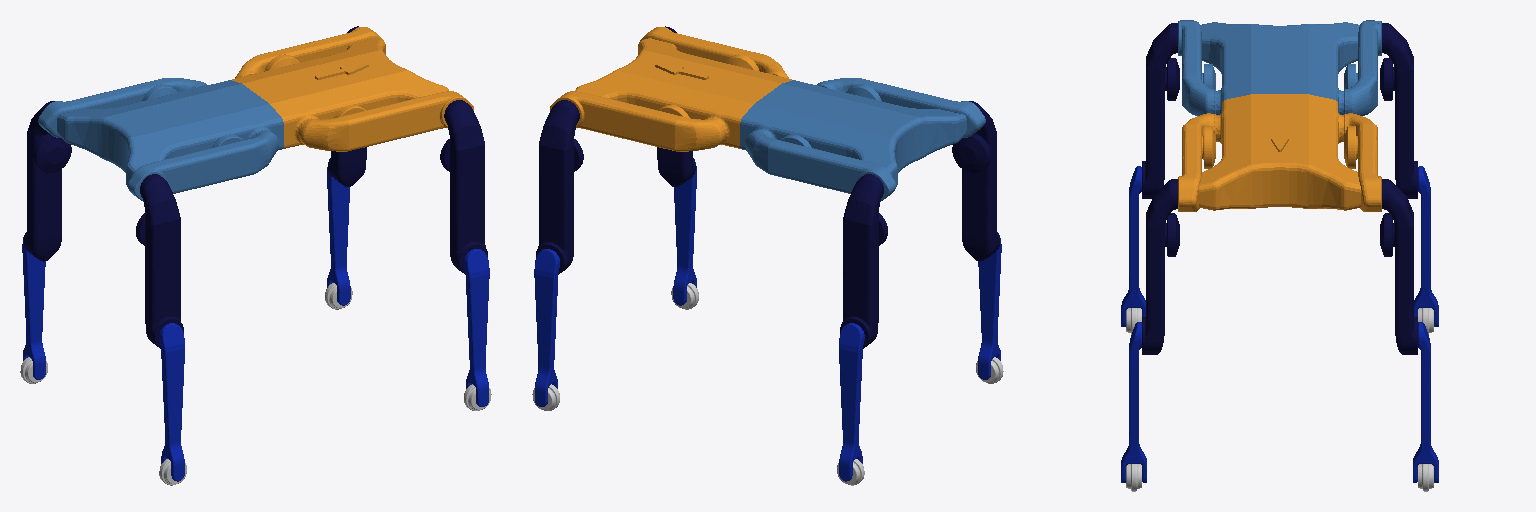
robot.urdf — solo:
<?xml version="1.0" ?>
<!-- =================================================================================== -->
<!-- |    This document was autogenerated by xacro from /usr/local/lib/python3.9/site-packages/robot_properties_solo/resources/xacro/solo8.urdf.xacro | -->
<!-- |    EDITING THIS FILE BY HAND IS NOT RECOMMENDED                                 | -->
<!-- =================================================================================== -->
<robot name="solo" xmlns:controller="http://playerstage.sourceforge.net/gazebo/xmlschema/#controller" xmlns:interface="http://playerstage.sourceforge.net/gazebo/xmlschema/#interface" xmlns:sensor="http://playerstage.sourceforge.net/gazebo/xmlschema/#sensor" xmlns:xacro="http://playerstage.sourceforge.net/gazebo/xmlschema/#interface">
  <!-- This file is based on: https://atlas.is.localnet/confluence/display/AMDW/Quadruped+URDF+Files -->
  <link name="torso_front">
    <!-- BASE LINK INERTIAL -->
    <inertial>
      <origin rpy="0 0 0" xyz="0 0 0"/>
      <mass value="0.71657546"/>
      <!-- The base is extremely symmetrical. -->
      <inertia ixx="0.00289287" ixy="0.0" ixz="0.0" iyy="0.00969054" iyz="0.0" izz="0.01238062"/>
    </inertial>
    <!-- BASE LINK VISUAL -->
    <visual>
      <origin rpy="0 0 0" xyz="0 0 0"/>
      <geometry>
        <mesh filename="../meshes/solo_torso_front.dae"/>
      </geometry>
      <material name="ftorso_mat">
        <color rgba="0.9 0.6 0.2 1"/>
      </material>
    </visual>
    <!-- BASE LINK COLLISION -->
    <collision>
      <origin rpy="0 0 0" xyz="0 0 0"/>
      <geometry>
        <mesh filename="../meshes/solo_torso_front.dae"/>
      </geometry>
    </collision>
    <!-- Bullet specific paramters -->
    <contact>
      <lateral_friction value="1.0"/>
      <restitution value="0.5"/>
    </contact>
  </link>
  <!-- SPIN:Between the torso -->
  <joint name="spine_joint" type="revolute">
    <parent link="torso_front"/>
    <child link="torso_back"/>
    <limit effort="20.0" lower="-4" upper="4" velocity="50"/>
    <!-- joints rotates around the y-axis -->
    <axis xyz="1 0 0"/>
    <origin rpy="0 0 0" xyz="0 0 0"/>
    <!-- pybullet simulation parameters -->
    <dynamics damping="0.0" friction="0.0"/>
  </joint>
  <link name="torso_back">
    <!-- BASE LINK INERTIAL -->
    <inertial>
      <origin rpy="0 0 0" xyz="0 0 0"/>
      <mass value="0.71657546"/>
      <!-- The base is extremely symmetrical. -->
      <inertia ixx="0.00289287" ixy="0.0" ixz="0.0" iyy="0.00969054" iyz="0.0" izz="0.01238062"/>
    </inertial>
    <!-- BASE LINK VISUAL -->
    <visual>
      <origin rpy="0 0 0" xyz="0 0 0"/>
      <geometry>
        <mesh filename="../meshes/solo_torso_back.dae"/>
      </geometry>
      <material name="btorso_mat">
        <color rgba="0.3 0.5 0.7 1"/>
      </material>
    </visual>
    <!-- BASE LINK COLLISION -->
    <collision>
      <origin rpy="0 0 0" xyz="0 0 0"/>
      <geometry>
        <mesh filename="../meshes/solo_torso_back.dae"/>
      </geometry>
    </collision>
    <!-- Bullet specific paramters -->
    <contact>
      <lateral_friction value="1.0"/>
      <restitution value="0.5"/>
    </contact>
  </link>
  <!-- END BASE LINK -->
  <!-- Joint between the base and the ${prefix} upper leg -->
  <joint name="FL_HFE" type="revolute">
    <parent link="torso_front"/>
    <child link="FL_UPPER_LEG"/>
    <limit effort="2.5" lower="0" upper="1.5707963" velocity="8"/>
    <!-- joints rotates around the y-axis -->
    <axis xyz="0 1 0"/>
    <origin rpy="0 0 0" xyz="0.19 0.1046 0"/>
    <!-- pybullet simulation parameters -->
    <dynamics damping="0.0" friction="0.0"/>
  </joint>
  <link name="FL_UPPER_LEG">
    <!-- Left upper leg inertia -->
    <inertial>
      <origin rpy="0 0 0" xyz="0.00001377 0.01935853 -0.07870700"/>
      <mass value="0.14853845"/>
      <inertia ixx="0.00041107" ixy="0.0" ixz="0.0" iyy="0.00041193" iyz="0.00004671" izz="0.00003024"/>
    </inertial>
    <!-- UPPER LEG LINK VISUAL -->
    <visual>
      <origin rpy="0 0 0" xyz="0 0 0"/>
      <geometry>
        <mesh filename="../meshes/solo_upper_leg_left_side.dae"/>
      </geometry>
      <material name="fthigh_mat">
        <color rgba="0.1 0.1 0.3 1"/>
      </material>
    </visual>
    <!-- UPPER LEG LINK COLLISION -->
    <collision>
      <origin rpy="0 0 0" xyz="0 0 0"/>
      <geometry>
        <mesh filename="../meshes/solo_upper_leg_left_side.dae"/>
      </geometry>
    </collision>
    <!-- Bullet specific paramters -->
    <contact>
      <lateral_friction value="1.0"/>
      <restitution value="0.5"/>
    </contact>
  </link>
  <!-- END UPPER LEG LINK -->
  <!-- KFE: Joint between the upper leg and the lower leg -->
  <joint name="FL_KFE" type="revolute">
    <parent link="FL_UPPER_LEG"/>
    <child link="FL_LOWER_LEG"/>
    <limit effort="2.5" lower="-3.14" upper="0" velocity="8"/>
    <!-- joints rotates around the y-axis -->
    <axis xyz="0 1 0"/>
    <origin rpy="0 0 0" xyz="0 0.037450000000000004 -0.16"/>
    <!-- pybullet simulation parameters -->
    <dynamics damping="0.0" friction="0.0"/>
  </joint>
  <link name="FL_LOWER_LEG">
    <!-- Left lower leg inertia -->
    <inertial>
      <origin rpy="0 0 0" xyz="0.0 0.00787644 -0.08928215"/>
      <mass value="0.03070001"/>
      <inertia ixx="0.00012024" ixy="0.0" ixz="0.0" iyy="0.00012029" iyz="0.00000305" izz="0.00000216"/>
    </inertial>
    <!-- LOWER LEG LINK VISUAL -->
    <visual>
      <origin rpy="0 0 0" xyz="0 0 0"/>
      <geometry>
        <mesh filename="../meshes/solo_lower_leg_left_side.dae"/>
      </geometry>
      <material name="fshin_mat">
        <color rgba="0.1 0.2 0.7 0.4"/>
      </material>
    </visual>
    <!-- LOWER LEG LINK COLLISION -->
    <collision>
      <origin rpy="0 0 0" xyz="0 0 0"/>
      <geometry>
        <mesh filename="../meshes/solo_lower_leg_left_side.dae"/>
      </geometry>
    </collision>
    <!-- Bullet specific paramters -->
    <contact>
      <lateral_friction value="1.0"/>
      <restitution value="0.5"/>
    </contact>
  </link>
  <!-- END LOWER LEG LINK -->
  <!-- KFE: Joint between the upper leg and the lower leg -->
  <joint name="FL_ANKLE" type="fixed">
    <parent link="FL_LOWER_LEG"/>
    <child link="FL_FOOT"/>
    <origin rpy="0 0 0" xyz="0 0.008 -0.16"/>
    <!-- pybullet simulation parameters -->
    <dynamics damping="0.0" friction="0.0"/>
  </joint>
  <link name="FL_FOOT">
    <!-- FOOT INERTIAL -->
    <!-- This link is symmetrical left or right -->
    <inertial>
      <origin rpy="0 0 0" xyz="0 0 0.00035767"/>
      <mass value="0.00693606"/>
      <inertia ixx="0.00000057" ixy="0.0" ixz="0.0" iyy="0.00000084" iyz="0.0" izz="0.00000053"/>
    </inertial>
    <!-- FOOT VISUAL -->
    <visual>
      <origin rpy="0 0 0" xyz="0 0 0"/>
      <geometry>
        <mesh filename="../meshes/solo_foot.dae"/>
      </geometry>
      <material name="grey">
        <color rgba="0.8 0.8 0.8 1.0"/>
      </material>
    </visual>
    <!-- FOOT COLLISION -->
    <collision>
      <origin rpy="0 0 0" xyz="0 0 0"/>
      <geometry>
        <mesh filename="../meshes/solo_foot.dae"/>
      </geometry>
    </collision>
    <!-- Bullet specific paramters -->
    <contact>
      <lateral_friction value="1.0"/>
      <restitution value="0.5"/>
    </contact>
  </link>
  <!-- END LOWER LEG LINK -->
  <!-- Joint between the base and the ${prefix} upper leg -->
  <joint name="FR_HFE" type="revolute">
    <parent link="torso_front"/>
    <child link="FR_UPPER_LEG"/>
    <limit effort="2.5" lower="0" upper="1.5707963" velocity="8"/>
    <!-- joints rotates around the y-axis -->
    <axis xyz="0 1 0"/>
    <origin rpy="0 0 0" xyz="0.19 -0.1046 0"/>
    <!-- pybullet simulation parameters -->
    <dynamics damping="0.0" friction="0.0"/>
  </joint>
  <link name="FR_UPPER_LEG">
    <!-- Right upper leg inertia -->
    <inertial>
      <origin rpy="0 0 0" xyz="-0.00001377 -0.01935853 -0.07870700"/>
      <mass value="0.14853845"/>
      <inertia ixx="0.00041107" ixy="0.0" ixz="0.0" iyy="0.00041193" iyz="-0.00004671" izz="0.00003024"/>
    </inertial>
    <!-- UPPER LEG LINK VISUAL -->
    <visual>
      <origin rpy="0 0 0" xyz="0 0 0"/>
      <geometry>
        <mesh filename="../meshes/solo_upper_leg_right_side.dae"/>
      </geometry>
      <material name="fthigh_mat">
        <color rgba="0.1 0.1 0.3 1"/>
      </material>
    </visual>
    <!-- UPPER LEG LINK COLLISION -->
    <collision>
      <origin rpy="0 0 0" xyz="0 0 0"/>
      <geometry>
        <mesh filename="../meshes/solo_upper_leg_right_side.dae"/>
      </geometry>
    </collision>
    <!-- Bullet specific paramters -->
    <contact>
      <lateral_friction value="1.0"/>
      <restitution value="0.5"/>
    </contact>
  </link>
  <!-- END UPPER LEG LINK -->
  <!-- KFE: Joint between the upper leg and the lower leg -->
  <joint name="FR_KFE" type="revolute">
    <parent link="FR_UPPER_LEG"/>
    <child link="FR_LOWER_LEG"/>
    <limit effort="2.5" lower="-3.14" upper="0" velocity="8"/>
    <!-- joints rotates around the y-axis -->
    <axis xyz="0 1 0"/>
    <origin rpy="0 0 0" xyz="0 -0.037450000000000004 -0.16"/>
    <!-- pybullet simulation parameters -->
    <dynamics damping="0.0" friction="0.0"/>
  </joint>
  <link name="FR_LOWER_LEG">
    <!-- Right lower leg inertia -->
    <inertial>
      <origin rpy="0 0 0" xyz="0.0 0.00787644 -0.08928215"/>
      <mass value="0.03070001"/>
      <inertia ixx="0.00012024" ixy="0.0" ixz="0.0" iyy="0.00012029" iyz="-0.00000305" izz="0.00000216"/>
    </inertial>
    <!-- LOWER LEG LINK VISUAL -->
    <visual>
      <origin rpy="0 0 0" xyz="0 0 0"/>
      <geometry>
        <mesh filename="../meshes/solo_lower_leg_right_side.dae"/>
      </geometry>
      <material name="fshin_mat">
        <color rgba="0.1 0.2 0.7 0.4"/>
      </material>
    </visual>
    <!-- LOWER LEG LINK COLLISION -->
    <collision>
      <origin rpy="0 0 0" xyz="0 0 0"/>
      <geometry>
        <mesh filename="../meshes/solo_lower_leg_right_side.dae"/>
      </geometry>
    </collision>
    <!-- Bullet specific paramters -->
    <contact>
      <lateral_friction value="1.0"/>
      <restitution value="0.5"/>
    </contact>
  </link>
  <!-- END LOWER LEG LINK -->
  <!-- KFE: Joint between the upper leg and the lower leg -->
  <joint name="FR_ANKLE" type="fixed">
    <parent link="FR_LOWER_LEG"/>
    <child link="FR_FOOT"/>
    <origin rpy="0 0 0" xyz="0 -0.008 -0.16"/>
    <!-- pybullet simulation parameters -->
    <dynamics damping="0.0" friction="0.0"/>
  </joint>
  <link name="FR_FOOT">
    <!-- FOOT INERTIAL -->
    <!-- This link is symmetrical left or right -->
    <inertial>
      <origin rpy="0 0 0" xyz="0 0 0.00035767"/>
      <mass value="0.00693606"/>
      <inertia ixx="0.00000057" ixy="0.0" ixz="0.0" iyy="0.00000084" iyz="0.0" izz="0.00000053"/>
    </inertial>
    <!-- FOOT VISUAL -->
    <visual>
      <origin rpy="0 0 0" xyz="0 0 0"/>
      <geometry>
        <mesh filename="../meshes/solo_foot.dae"/>
      </geometry>
      <material name="grey">
        <color rgba="0.8 0.8 0.8 1.0"/>
      </material>
    </visual>
    <!-- FOOT COLLISION -->
    <collision>
      <origin rpy="0 0 0" xyz="0 0 0"/>
      <geometry>
        <mesh filename="../meshes/solo_foot.dae"/>
      </geometry>
    </collision>
    <!-- Bullet specific paramters -->
    <contact>
      <lateral_friction value="1.0"/>
      <restitution value="0.5"/>
    </contact>
  </link>
  <!-- END LOWER LEG LINK -->
  <!-- Joint between the base and the ${prefix} upper leg -->
  <joint name="HL_HFE" type="revolute">
    <parent link="torso_back"/>
    <child link="HL_UPPER_LEG"/>
    <limit effort="2.5" lower="0" upper="1.5707963" velocity="8"/>
    <!-- joints rotates around the y-axis -->
    <axis xyz="0 1 0"/>
    <origin rpy="0 0 0" xyz="-0.19 0.1046 0"/>
    <!-- pybullet simulation parameters -->
    <dynamics damping="0.0" friction="0.0"/>
  </joint>
  <link name="HL_UPPER_LEG">
    <!-- Left upper leg inertia -->
    <inertial>
      <origin rpy="0 0 0" xyz="0.00001377 0.01935853 -0.07870700"/>
      <mass value="0.14853845"/>
      <inertia ixx="0.00041107" ixy="0.0" ixz="0.0" iyy="0.00041193" iyz="0.00004671" izz="0.00003024"/>
    </inertial>
    <!-- UPPER LEG LINK VISUAL -->
    <visual>
      <origin rpy="0 0 0" xyz="0 0 0"/>
      <geometry>
        <mesh filename="../meshes/solo_upper_leg_left_side.dae"/>
      </geometry>
      <material name="bthigh_mat">
        <color rgba="0.1 0.1 0.3 1"/>
      </material>
    </visual>
    <!-- UPPER LEG LINK COLLISION -->
    <collision>
      <origin rpy="0 0 0" xyz="0 0 0"/>
      <geometry>
        <mesh filename="../meshes/solo_upper_leg_left_side.dae"/>
      </geometry>
    </collision>
    <!-- Bullet specific paramters -->
    <contact>
      <lateral_friction value="1.0"/>
      <restitution value="0.5"/>
    </contact>
  </link>
  <!-- END UPPER LEG LINK -->
  <!-- KFE: Joint between the upper leg and the lower leg -->
  <joint name="HL_KFE" type="revolute">
    <parent link="HL_UPPER_LEG"/>
    <child link="HL_LOWER_LEG"/>
    <limit effort="2.5" lower="-3.14" upper="0" velocity="8"/>
    <!-- joints rotates around the y-axis -->
    <axis xyz="0 1 0"/>
    <origin rpy="0 0 0" xyz="0 0.037450000000000004 -0.16"/>
    <!-- pybullet simulation parameters -->
    <dynamics damping="0.0" friction="0.0"/>
  </joint>
  <link name="HL_LOWER_LEG">
    <!-- Left lower leg inertia -->
    <inertial>
      <origin rpy="0 0 0" xyz="0.0 0.00787644 -0.08928215"/>
      <mass value="0.03070001"/>
      <inertia ixx="0.00012024" ixy="0.0" ixz="0.0" iyy="0.00012029" iyz="0.00000305" izz="0.00000216"/>
    </inertial>
    <!-- LOWER LEG LINK VISUAL -->
    <visual>
      <origin rpy="0 0 0" xyz="0 0 0"/>
      <geometry>
        <mesh filename="../meshes/solo_lower_leg_left_side.dae"/>
      </geometry>
      <material name="bshin_mat">
        <color rgba="0.1 0.2 0.7 0.4"/>
      </material>
    </visual>
    <!-- LOWER LEG LINK COLLISION -->
    <collision>
      <origin rpy="0 0 0" xyz="0 0 0"/>
      <geometry>
        <mesh filename="../meshes/solo_lower_leg_left_side.dae"/>
      </geometry>
    </collision>
    <!-- Bullet specific paramters -->
    <contact>
      <lateral_friction value="1.0"/>
      <restitution value="0.5"/>
    </contact>
  </link>
  <!-- END LOWER LEG LINK -->
  <!-- KFE: Joint between the upper leg and the lower leg -->
  <joint name="HL_ANKLE" type="fixed">
    <parent link="HL_LOWER_LEG"/>
    <child link="HL_FOOT"/>
    <origin rpy="0 0 0" xyz="0 0.008 -0.16"/>
    <!-- pybullet simulation parameters -->
    <dynamics damping="0.0" friction="0.0"/>
  </joint>
  <link name="HL_FOOT">
    <!-- FOOT INERTIAL -->
    <!-- This link is symmetrical left or right -->
    <inertial>
      <origin rpy="0 0 0" xyz="0 0 0.00035767"/>
      <mass value="0.00693606"/>
      <inertia ixx="0.00000057" ixy="0.0" ixz="0.0" iyy="0.00000084" iyz="0.0" izz="0.00000053"/>
    </inertial>
    <!-- FOOT VISUAL -->
    <visual>
      <origin rpy="0 0 0" xyz="0 0 0"/>
      <geometry>
        <mesh filename="../meshes/solo_foot.dae"/>
      </geometry>
      <material name="grey">
        <color rgba="0.8 0.8 0.8 1.0"/>
      </material>
    </visual>
    <!-- FOOT COLLISION -->
    <collision>
      <origin rpy="0 0 0" xyz="0 0 0"/>
      <geometry>
        <mesh filename="../meshes/solo_foot.dae"/>
      </geometry>
    </collision>
    <!-- Bullet specific paramters -->
    <contact>
      <lateral_friction value="1.0"/>
      <restitution value="0.5"/>
    </contact>
  </link>
  <!-- END LOWER LEG LINK -->
  <!-- Joint between the base and the ${prefix} upper leg -->
  <joint name="HR_HFE" type="revolute">
    <parent link="torso_back"/>
    <child link="HR_UPPER_LEG"/>
    <!-- joints rotates around the y-axis -->
    <limit effort="2.5" lower="0" upper="1.5707963" velocity="8"/>
    <axis xyz="0 1 0"/>
    <origin rpy="0 0 0" xyz="-0.19 -0.1046 0"/>
    <!-- pybullet simulation parameters -->
    <dynamics damping="0.0" friction="0.0"/>
  </joint>
  <link name="HR_UPPER_LEG">
    <!-- Right upper leg inertia -->
    <inertial>
      <origin rpy="0 0 0" xyz="-0.00001377 -0.01935853 -0.07870700"/>
      <mass value="0.14853845"/>
      <inertia ixx="0.00041107" ixy="0.0" ixz="0.0" iyy="0.00041193" iyz="-0.00004671" izz="0.00003024"/>
    </inertial>
    <!-- UPPER LEG LINK VISUAL -->
    <visual>
      <origin rpy="0 0 0" xyz="0 0 0"/>
      <geometry>
        <mesh filename="../meshes/solo_upper_leg_right_side.dae"/>
      </geometry>
      <material name="bthigh_mat">
        <color rgba="0.1 0.1 0.3 1"/>
      </material>
    </visual>
    <!-- UPPER LEG LINK COLLISION -->
    <collision>
      <origin rpy="0 0 0" xyz="0 0 0"/>
      <geometry>
        <mesh filename="../meshes/solo_upper_leg_right_side.dae"/>
      </geometry>
    </collision>
    <!-- Bullet specific paramters -->
    <contact>
      <lateral_friction value="1.0"/>
      <restitution value="0.5"/>
    </contact>
  </link>
  <!-- END UPPER LEG LINK -->
  <!-- KFE: Joint between the upper leg and the lower leg -->
  <joint name="HR_KFE" type="revolute">
    <parent link="HR_UPPER_LEG"/>
    <child link="HR_LOWER_LEG"/>
    <limit effort="2.5" lower="-3.14" upper="0" velocity="8"/>
    <!-- joints rotates around the y-axis -->
    <axis xyz="0 1 0"/>
    <origin rpy="0 0 0" xyz="0 -0.037450000000000004 -0.16"/>
    <!-- pybullet simulation parameters -->
    <dynamics damping="0.0" friction="0.0"/>
  </joint>
  <link name="HR_LOWER_LEG">
    <!-- Right lower leg inertia -->
    <inertial>
      <origin rpy="0 0 0" xyz="0.0 0.00787644 -0.08928215"/>
      <mass value="0.03070001"/>
      <inertia ixx="0.00012024" ixy="0.0" ixz="0.0" iyy="0.00012029" iyz="-0.00000305" izz="0.00000216"/>
    </inertial>
    <!-- LOWER LEG LINK VISUAL -->
    <visual>
      <origin rpy="0 0 0" xyz="0 0 0"/>
      <geometry>
        <mesh filename="../meshes/solo_lower_leg_right_side.dae"/>
      </geometry>
      <material name="bshin_mat">
        <color rgba="0.1 0.2 0.7 0.4"/>
      </material>
    </visual>
    <!-- LOWER LEG LINK COLLISION -->
    <collision>
      <origin rpy="0 0 0" xyz="0 0 0"/>
      <geometry>
        <mesh filename="../meshes/solo_lower_leg_right_side.dae"/>
      </geometry>
    </collision>
    <!-- Bullet specific paramters -->
    <contact>
      <lateral_friction value="1.0"/>
      <restitution value="0.5"/>
    </contact>
  </link>
  <!-- END LOWER LEG LINK -->
  <!-- KFE: Joint between the upper leg and the lower leg -->
  <joint name="HR_ANKLE" type="fixed">
    <parent link="HR_LOWER_LEG"/>
    <child link="HR_FOOT"/>
    <origin rpy="0 0 0" xyz="0 -0.008 -0.16"/>
    <!-- pybullet simulation parameters -->
    <dynamics damping="0.0" friction="0.0"/>
  </joint>
  <link name="HR_FOOT">
    <!-- FOOT INERTIAL -->
    <!-- This link is symmetrical left or right -->
    <inertial>
      <origin rpy="0 0 0" xyz="0 0 0.00035767"/>
      <mass value="0.00693606"/>
      <inertia ixx="0.00000057" ixy="0.0" ixz="0.0" iyy="0.00000084" iyz="0.0" izz="0.00000053"/>
    </inertial>
    <!-- FOOT VISUAL -->
    <visual>
      <origin rpy="0 0 0" xyz="0 0 0"/>
      <geometry>
        <mesh filename="../meshes/solo_foot.dae"/>
      </geometry>
      <material name="grey">
        <color rgba="0.8 0.8 0.8 1.0"/>
      </material>
    </visual>
    <!-- FOOT COLLISION -->
    <collision>
      <origin rpy="0 0 0" xyz="0 0 0"/>
      <geometry>
        <mesh filename="../meshes/solo_foot.dae"/>
      </geometry>
    </collision>
    <!-- Bullet specific paramters -->
    <contact>
      <lateral_friction value="1.0"/>
      <restitution value="0.5"/>
    </contact>
  </link>
  <!-- END LOWER LEG LINK -->
</robot>

--- Facts derived from the render (not from the file) ---
3 views of the same robot in one strip: view 1: azimuth 30°, elevation 25°; view 2: azimuth 150°, elevation 25°; view 3: azimuth 270°, elevation 25° (orthographic).
Robot: solo — 14 links, 13 joints (9 revolute, 4 fixed); root link torso_front; default pose: all joints at 0.
Visible links, largest first — view 1: torso_back, torso_front, HR_UPPER_LEG, FR_UPPER_LEG, HL_UPPER_LEG, HR_LOWER_LEG, FR_LOWER_LEG, FL_LOWER_LEG, HL_LOWER_LEG, FL_UPPER_LEG; view 2: torso_back, torso_front, HL_UPPER_LEG, FL_UPPER_LEG, HR_UPPER_LEG, HL_LOWER_LEG, FL_LOWER_LEG, FR_LOWER_LEG, HR_LOWER_LEG, FR_UPPER_LEG; view 3: torso_front, torso_back, FL_UPPER_LEG, FR_UPPER_LEG, HL_UPPER_LEG, HR_UPPER_LEG, FL_LOWER_LEG, FR_LOWER_LEG, HL_LOWER_LEG, HR_LOWER_LEG.
Boxes of the visible links, x1,y1,x2,y2 form: torso_back: (38, 78, 283, 201); torso_front: (232, 27, 473, 151); HR_UPPER_LEG: (136, 174, 183, 348); FR_UPPER_LEG: (440, 100, 487, 274); HL_UPPER_LEG: (24, 101, 71, 261); HR_LOWER_LEG: (159, 323, 184, 481); FR_LOWER_LEG: (464, 249, 489, 406); FL_LOWER_LEG: (327, 159, 350, 305); HL_LOWER_LEG: (22, 233, 45, 379); FL_UPPER_LEG: (328, 26, 366, 186); torso_back: (740, 78, 985, 201); torso_front: (550, 27, 791, 151); HL_UPPER_LEG: (840, 174, 887, 348); FL_UPPER_LEG: (536, 100, 583, 274); HR_UPPER_LEG: (952, 101, 999, 261); HL_LOWER_LEG: (839, 323, 864, 481); FL_LOWER_LEG: (534, 249, 559, 406); FR_LOWER_LEG: (673, 159, 696, 305); HR_LOWER_LEG: (978, 233, 1001, 379); FR_UPPER_LEG: (657, 26, 695, 186); torso_front: (1178, 94, 1381, 211); torso_back: (1178, 20, 1381, 115); FL_UPPER_LEG: (1380, 179, 1417, 354); FR_UPPER_LEG: (1142, 179, 1179, 354); HL_UPPER_LEG: (1380, 23, 1417, 198); HR_UPPER_LEG: (1142, 23, 1179, 198); FL_LOWER_LEG: (1413, 322, 1438, 482); FR_LOWER_LEG: (1121, 322, 1146, 482); HL_LOWER_LEG: (1414, 166, 1438, 326); HR_LOWER_LEG: (1121, 166, 1145, 326).
Size in the robot's own frame: 0.4244 by 0.327 by 0.364 metres.
14 mesh visuals loaded from 7 distinct referenced files (7 Collada DAE).
